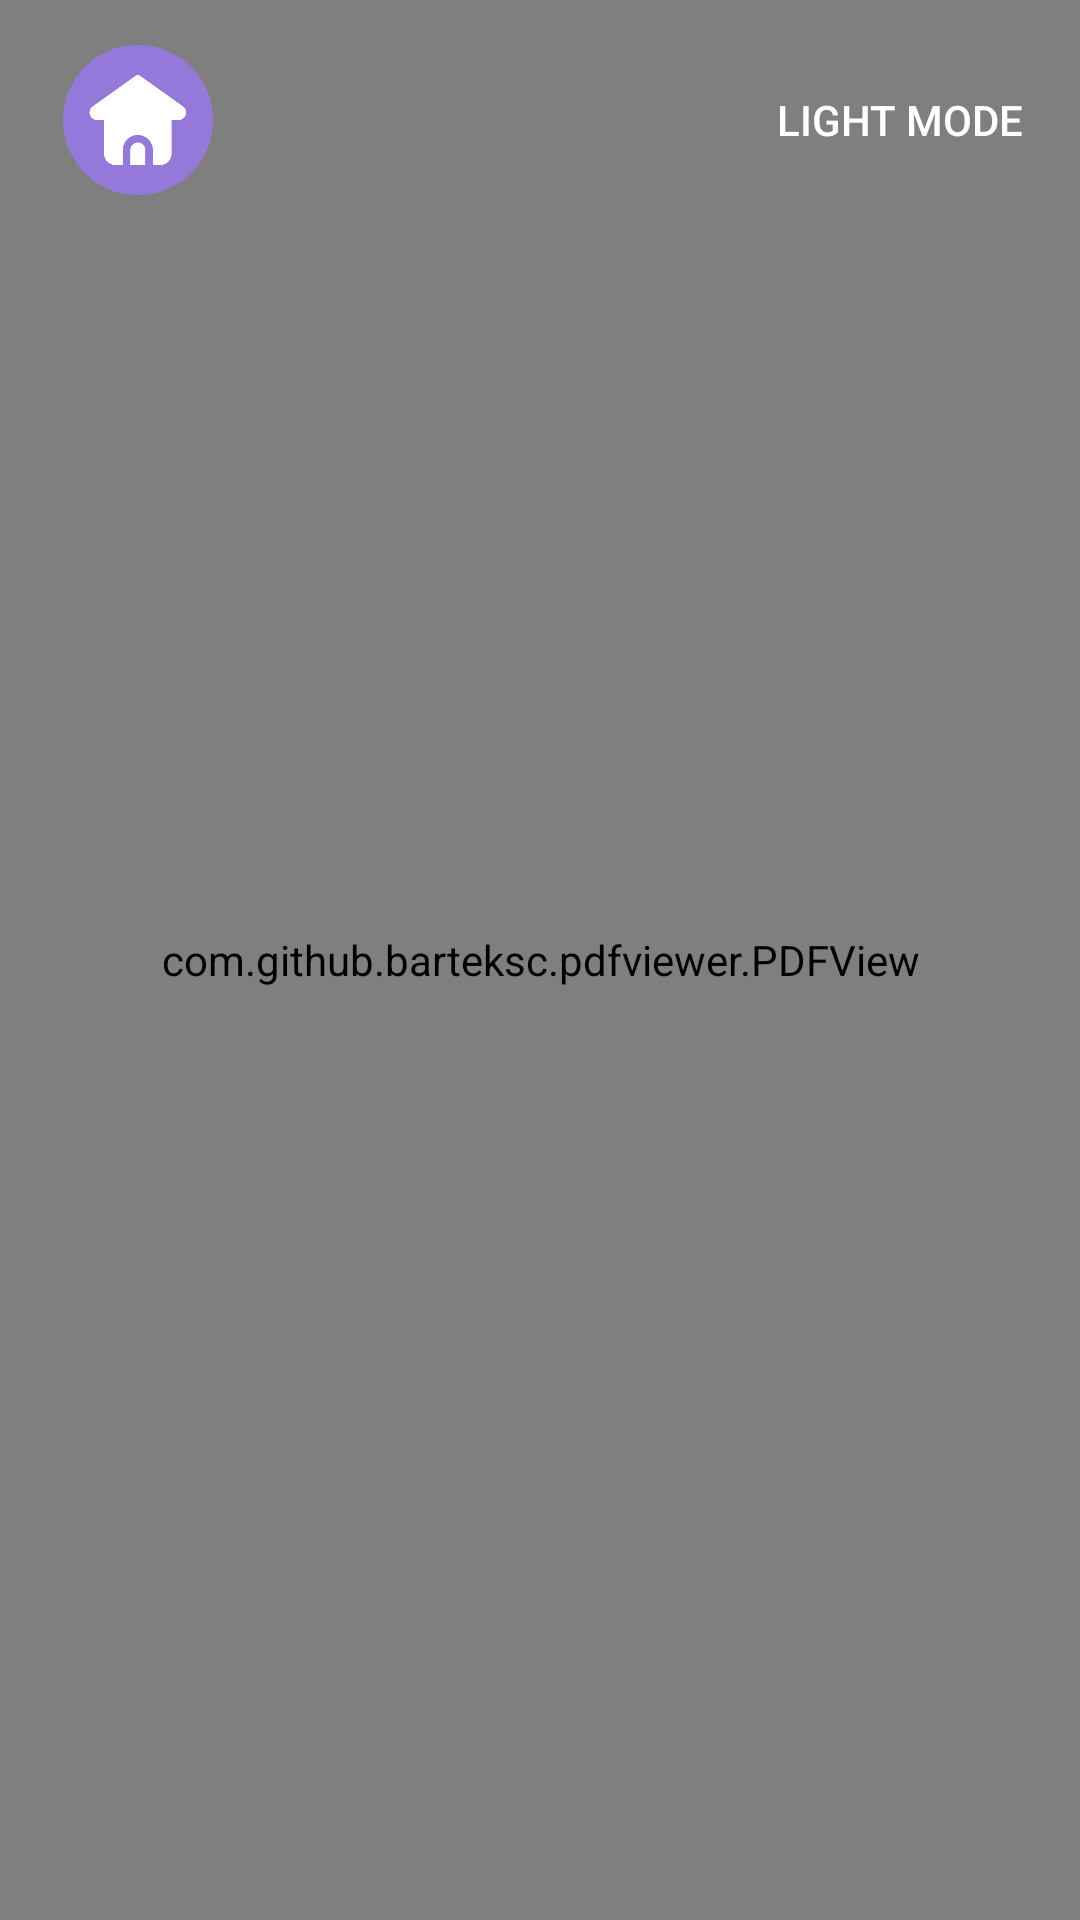

Where icons sit on this 1080*1920 app screen, as (x1, y1, x2, y2):
home: (63, 45, 213, 195)
